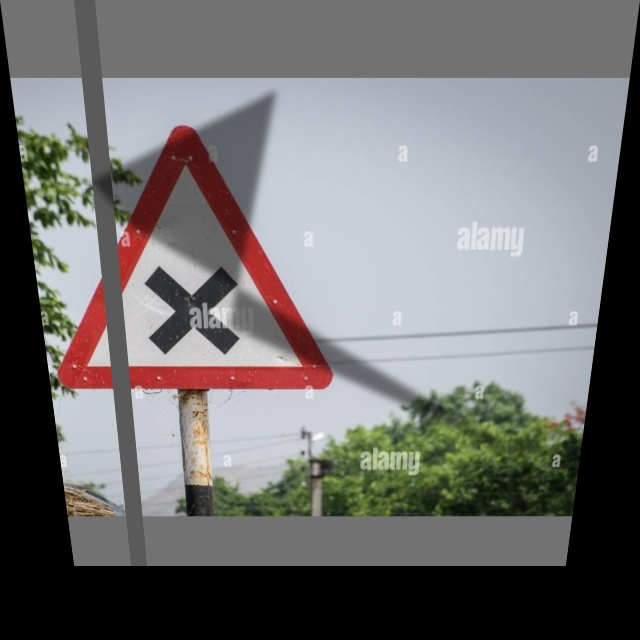Cross_Road: (47, 139, 333, 388)
